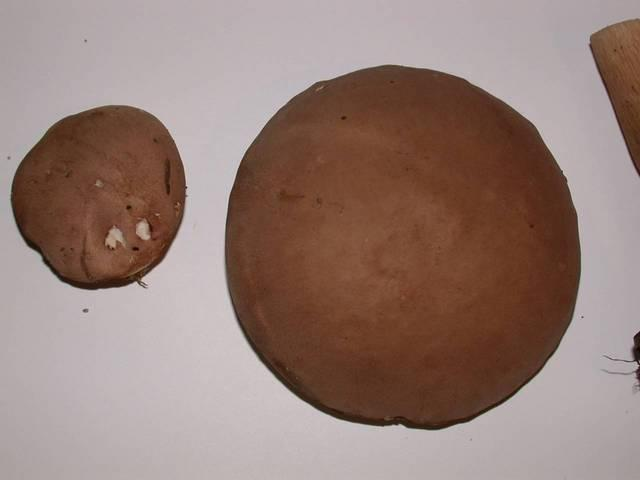poisonous_mushroom: (222, 62, 582, 430), (9, 103, 187, 290)
